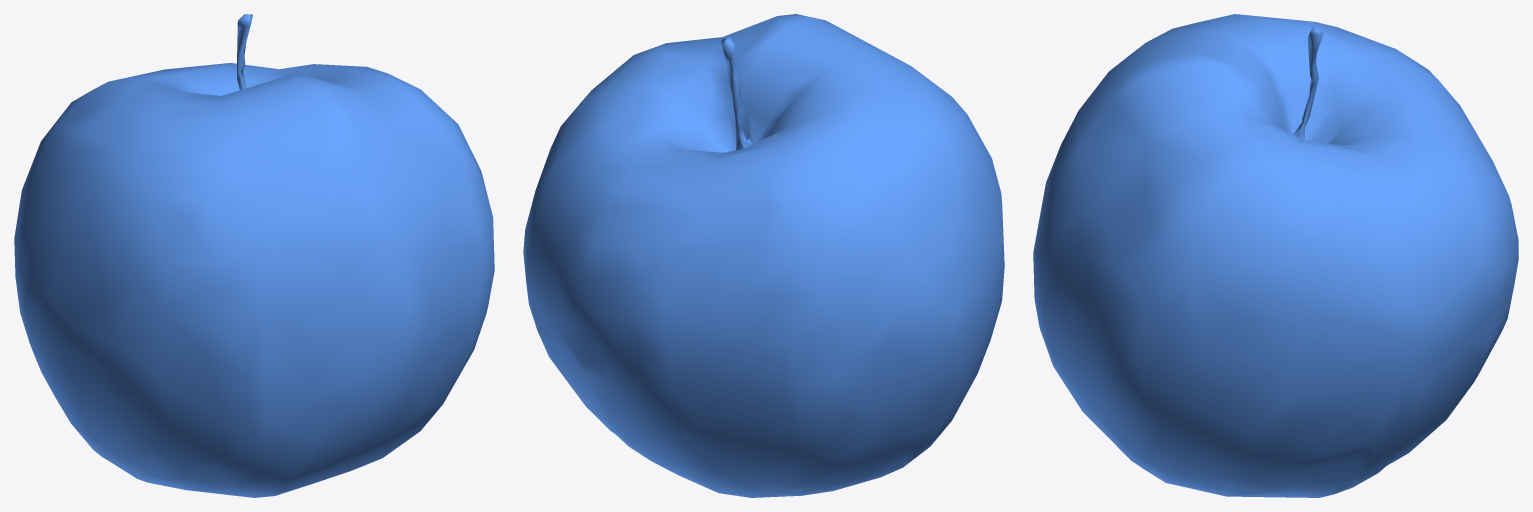
The model's file is nr-apple-1.glb.
3 renders of one model, left to right at view 1: azimuth 30°, elevation 25°; view 2: azimuth 150°, elevation 25°; view 3: azimuth 270°, elevation 25°, orthographic. The views are drawn at different scales.
Parts seen in each view (by area): view 1: nr-apple-1-0; view 2: nr-apple-1-0; view 3: nr-apple-1-0.
Part boxes in pixels (box(x1,y1,x2,y2)): nr-apple-1-0: box(14, 14, 494, 497); nr-apple-1-0: box(523, 14, 1004, 497); nr-apple-1-0: box(1033, 14, 1518, 497).
Bounding box in the file's own units: 1 × 0.9973 × 0.9808.
